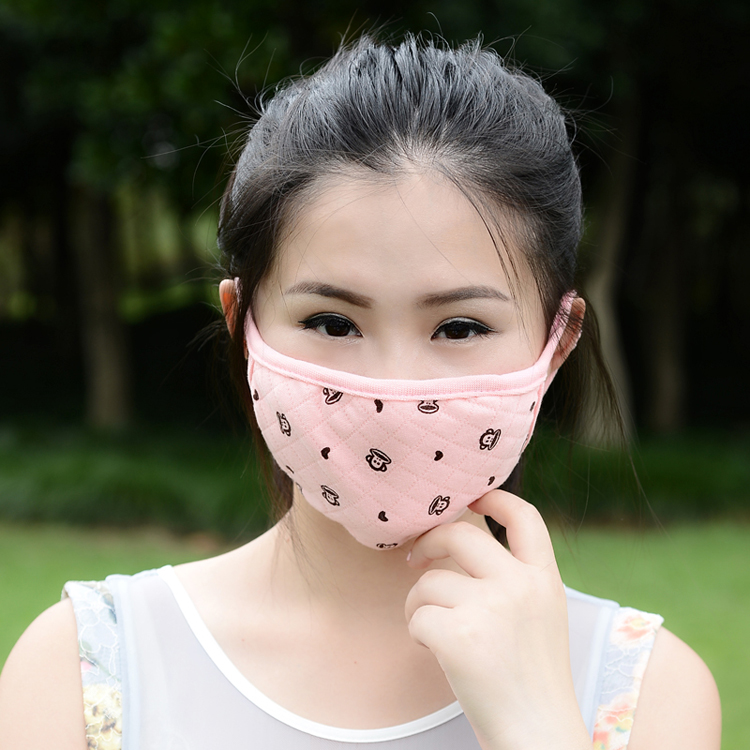face_mask: (252, 160, 540, 548)
